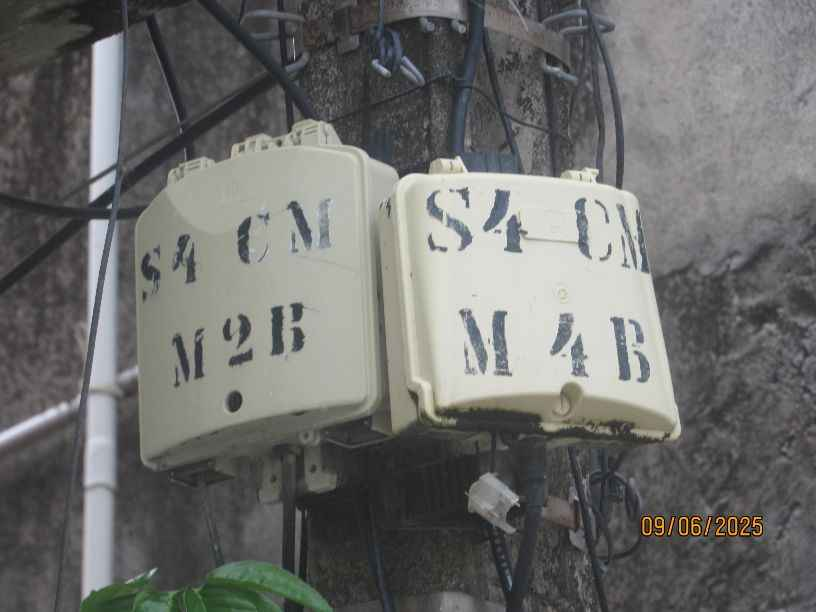caixa_derivacao: (110, 121, 404, 474), (382, 154, 687, 440)
